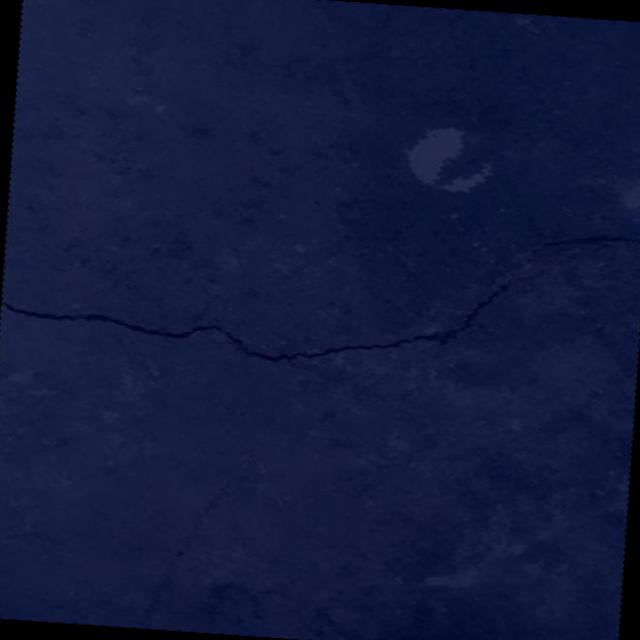crack: (0, 192, 640, 391)
